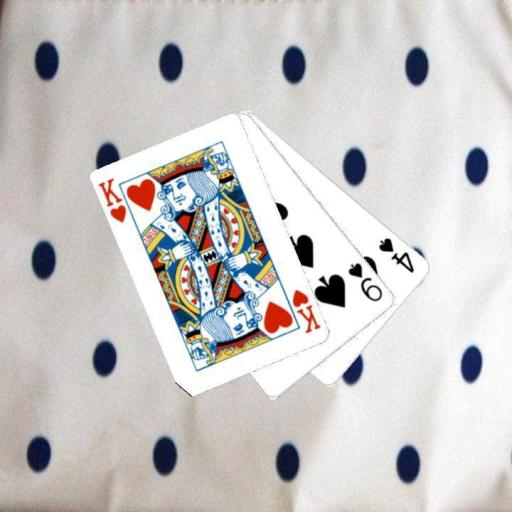card-corner: (345, 258, 385, 304), (289, 286, 323, 335), (96, 175, 129, 225), (375, 234, 416, 274)
